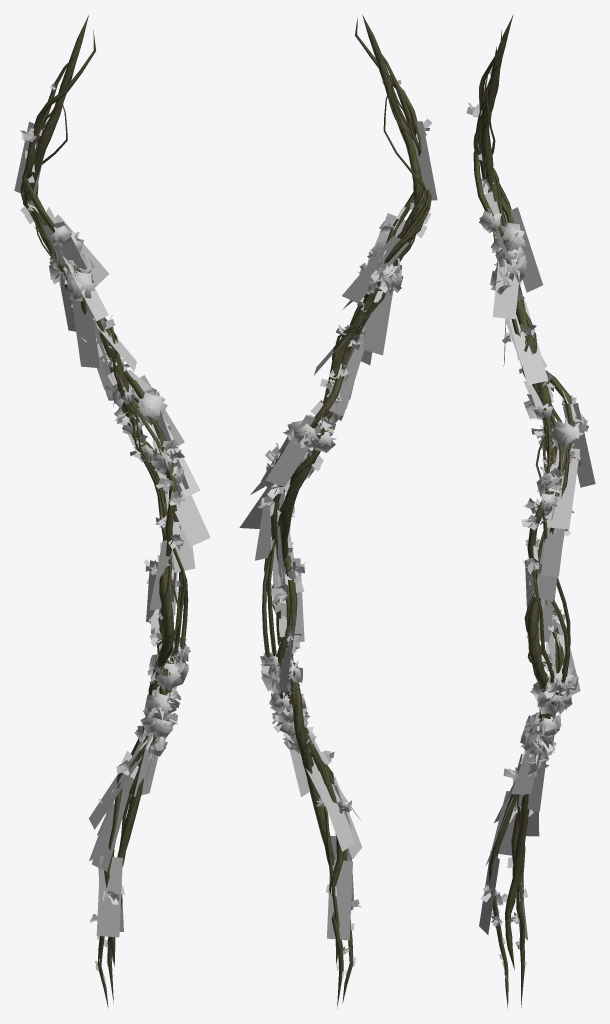
File: Liana2_L0.fbx
3 views of the same model, side by side, from view 1: azimuth 30°, elevation 25°; view 2: azimuth 210°, elevation 25°; view 3: azimuth 330°, elevation 25° (orthographic).
Visible parts, largest first — view 1: polySurface37; view 2: polySurface37; view 3: polySurface37.
Boxes of the visible parts, bbox=[...] form: polySurface37: bbox=[14, 15, 210, 1007]; polySurface37: bbox=[239, 15, 437, 1008]; polySurface37: bbox=[466, 14, 595, 1008].
Size of the model in its own units: 221 by 1433 by 164.
